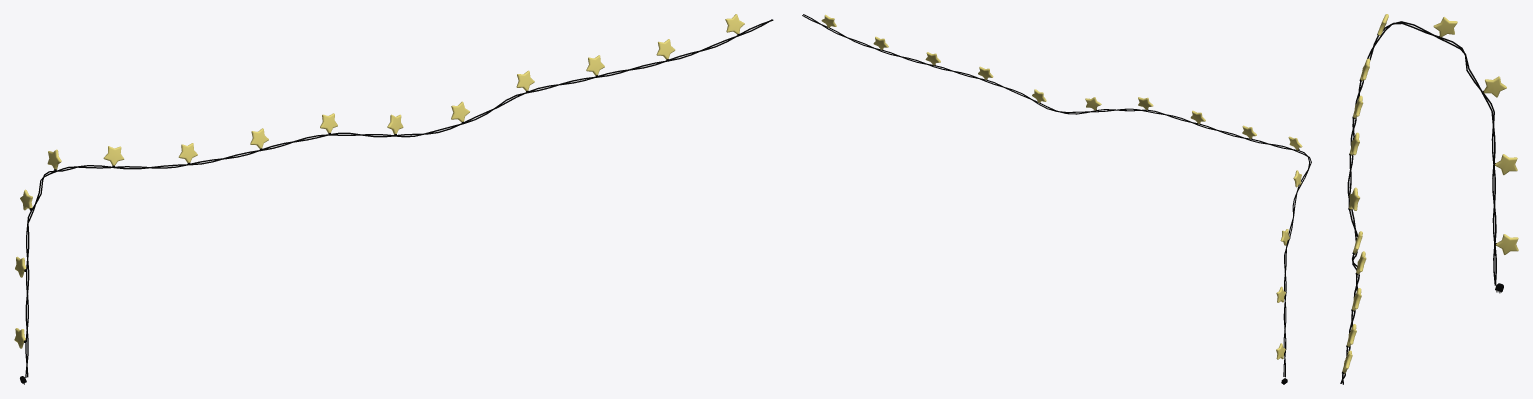
File: lights3.fbx
The picture shows the model from 3 angles, left to right: view 1: azimuth 30°, elevation 25°; view 2: azimuth 150°, elevation 25°; view 3: azimuth 270°, elevation 25°; orthographic projection. The views are drawn at different scales.
Visible parts, largest first — view 1: String.001; view 2: String.001; view 3: String.001.
Part boxes in pixels (<box>): String.001: <box>14,14,773,377</box>; String.001: <box>802,14,1311,377</box>; String.001: <box>1340,14,1518,384</box>.
Size of the model in its own units: 504 by 188 by 102.
